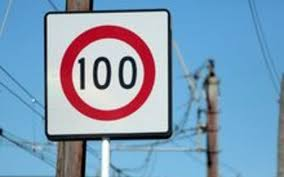Speed_limit_100km: (59, 25, 157, 121)
